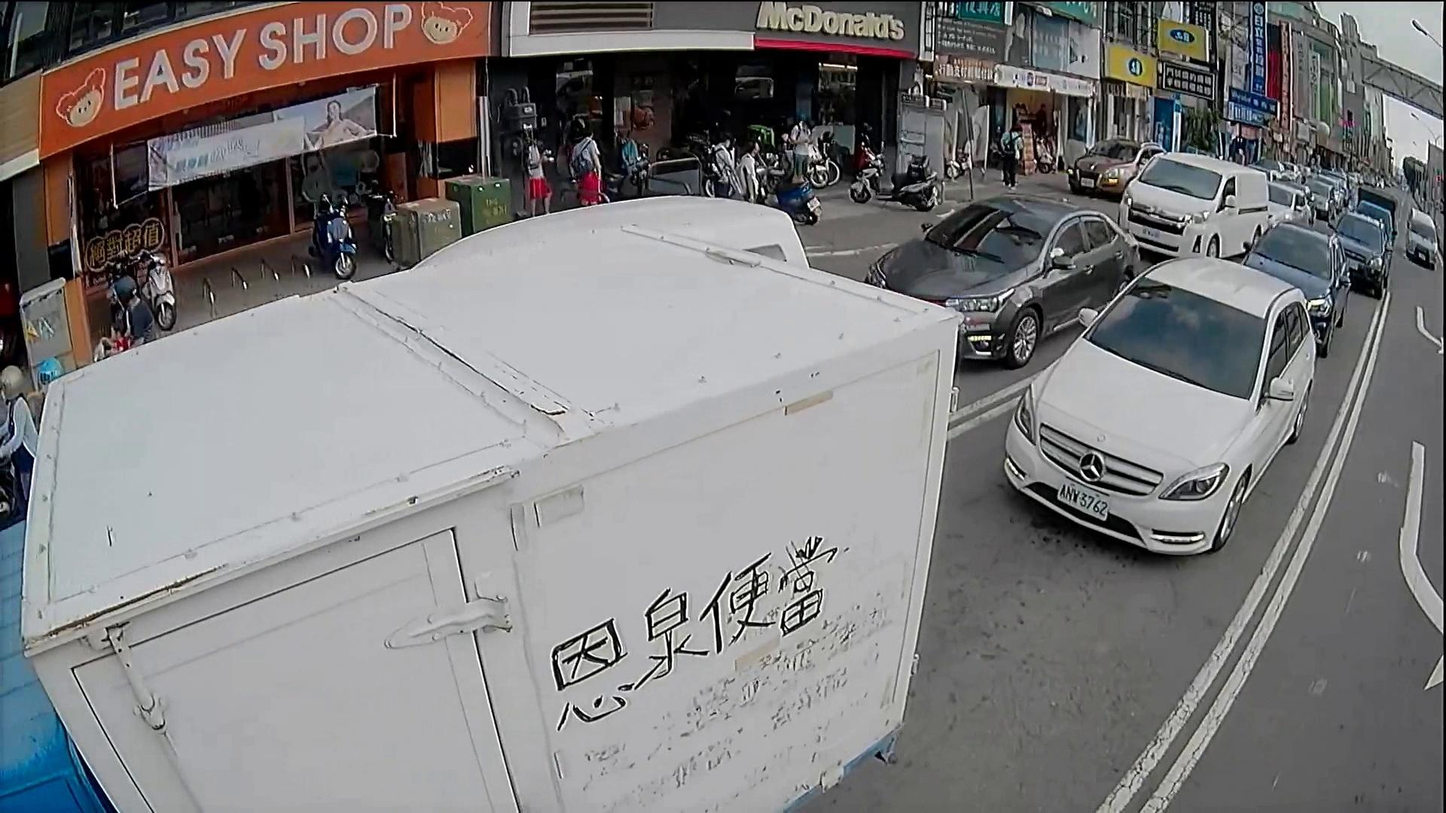person: (111, 266, 152, 347), (568, 123, 607, 206), (734, 142, 770, 207), (526, 132, 551, 215), (704, 139, 736, 199), (788, 114, 812, 188), (561, 104, 592, 145), (999, 126, 1019, 185)
